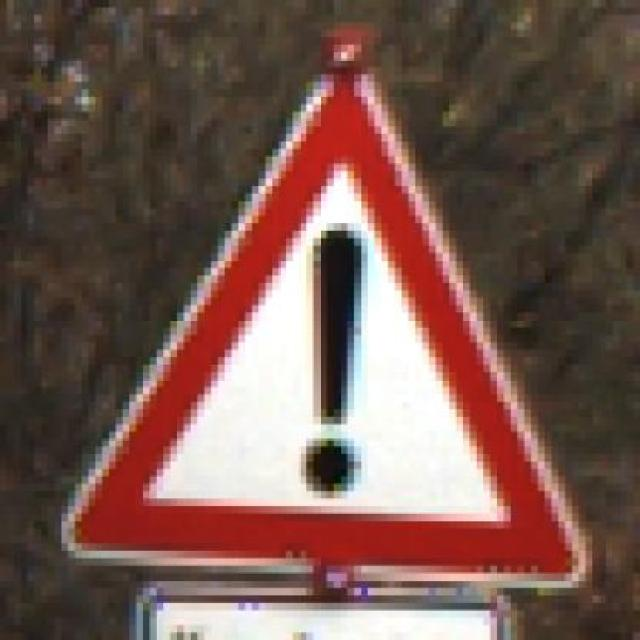Attention Please-: (62, 29, 606, 603)
